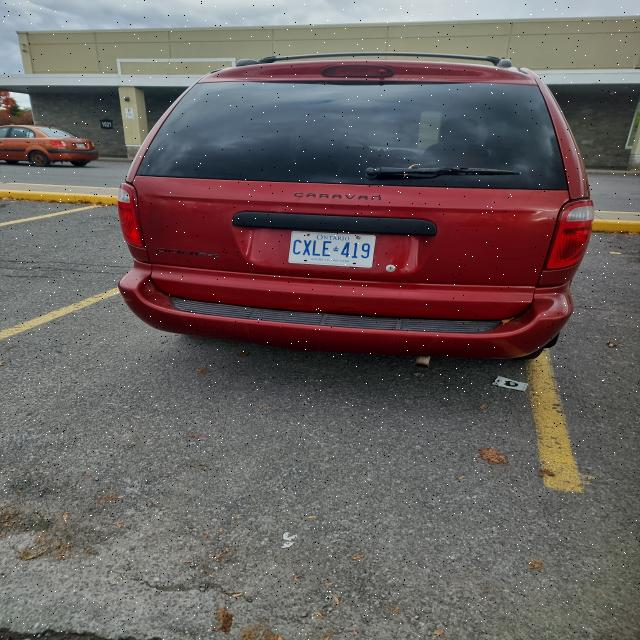plaque: (289, 232, 375, 267), (76, 144, 85, 148)
